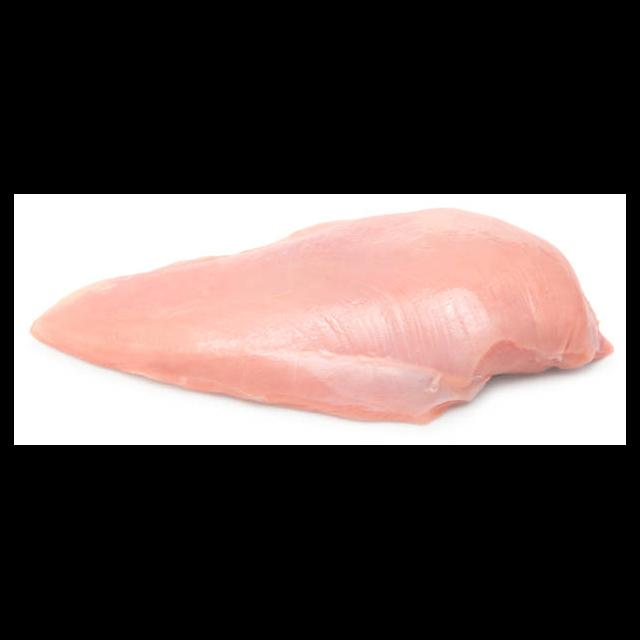chicken: (29, 206, 615, 428)
